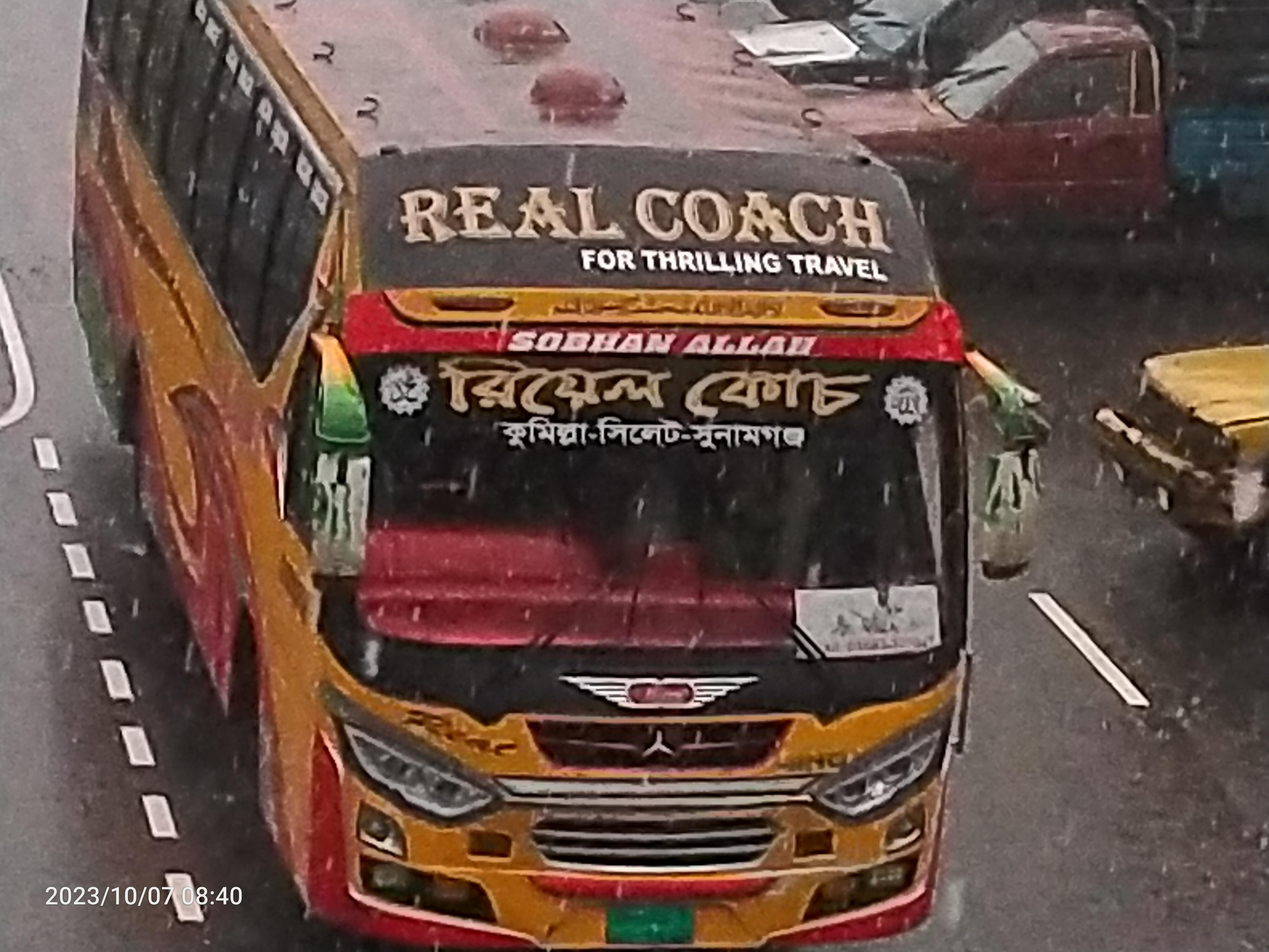Bus: (0, 0, 1095, 950)
Truck: (755, 4, 1269, 296), (1092, 264, 1269, 646)
